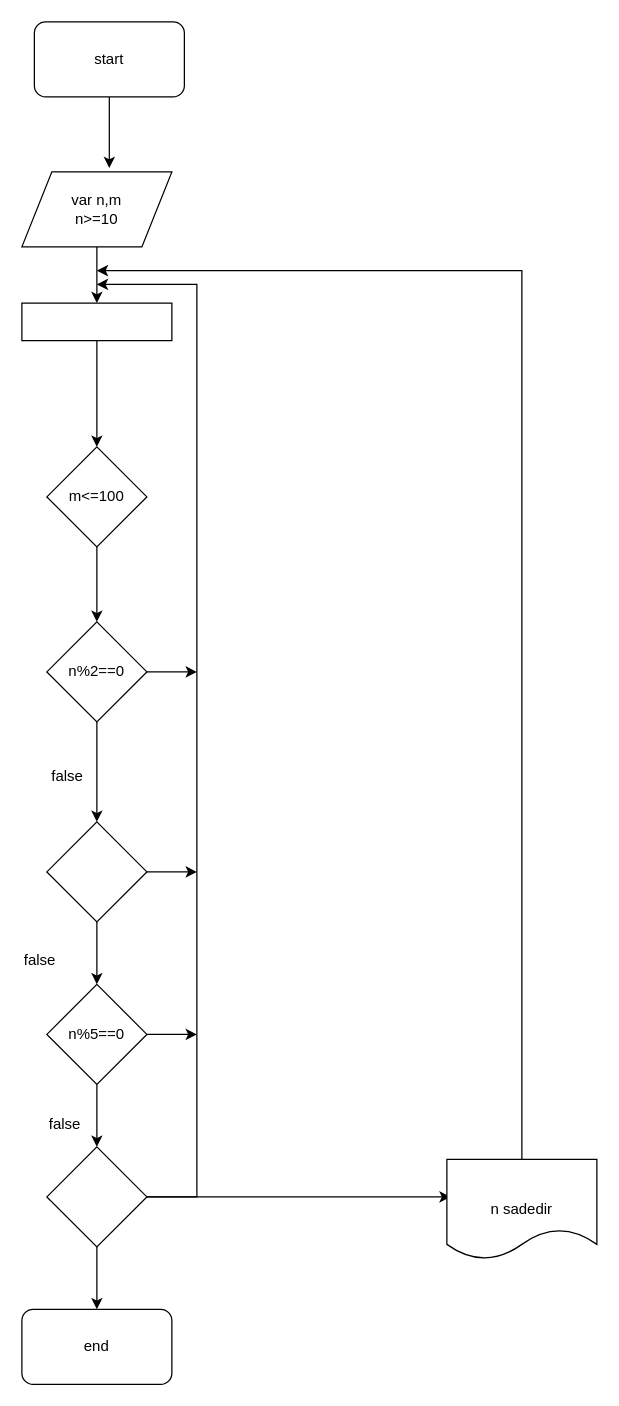
This 619x1406 diagram has some shape labels left out. The shapes that lost their labels are listed below. From the top down, each one's centre as x and y in pixels, then its label:
At (x=96, y=321): "n++".
At (x=96, y=871): "n%3==0".
At (x=96, y=1196): "n%7==0".
